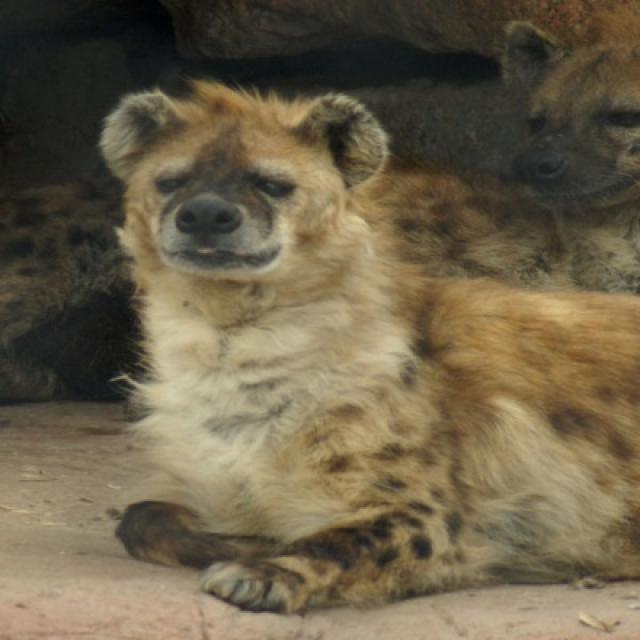hyena: (98, 80, 638, 618)
